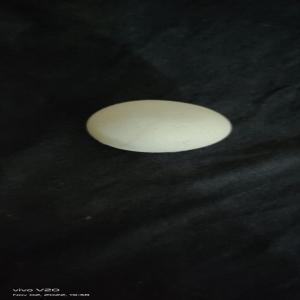Egg: (81, 99, 234, 153)
